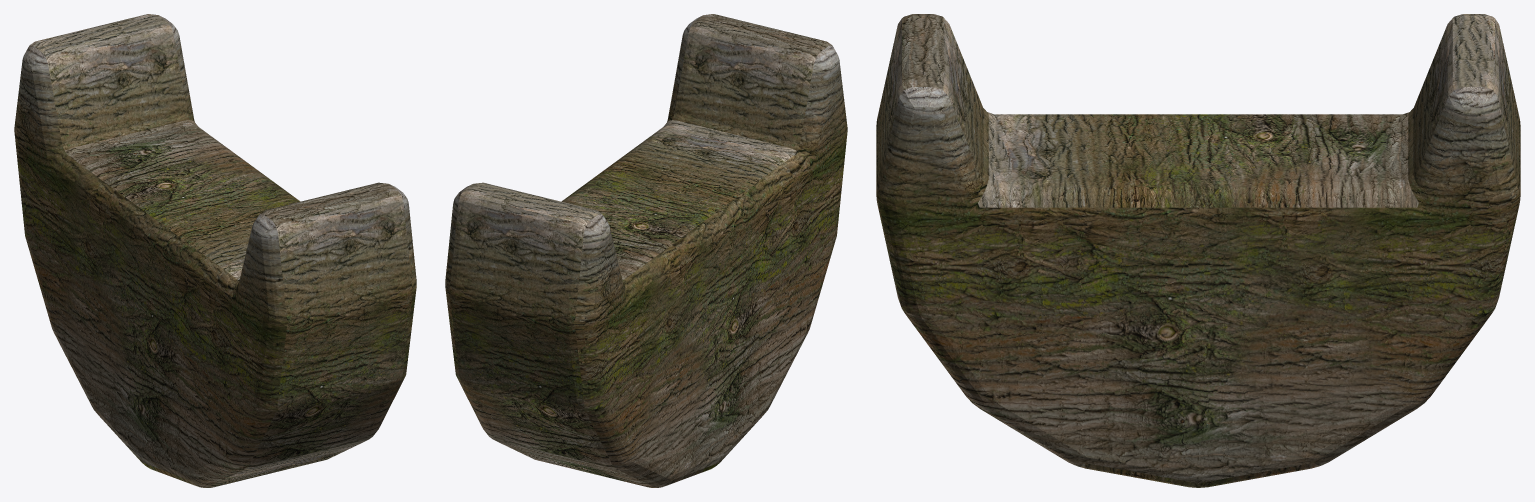
The model's file is Log0.fbx.
3 views of the same model, side by side, from view 1: azimuth 30°, elevation 25°; view 2: azimuth 150°, elevation 25°; view 3: azimuth 270°, elevation 25° (orthographic). The views are drawn at different scales.
Parts seen in each view (by area): view 1: Log0; view 2: Log0; view 3: Log0.
Boxes of the visible parts, box(x1,y1,x2,y2) form: Log0: box(14, 14, 416, 487); Log0: box(445, 14, 847, 487); Log0: box(876, 14, 1520, 487).
Bounding box in the file's own units: 96 × 207 × 299.
